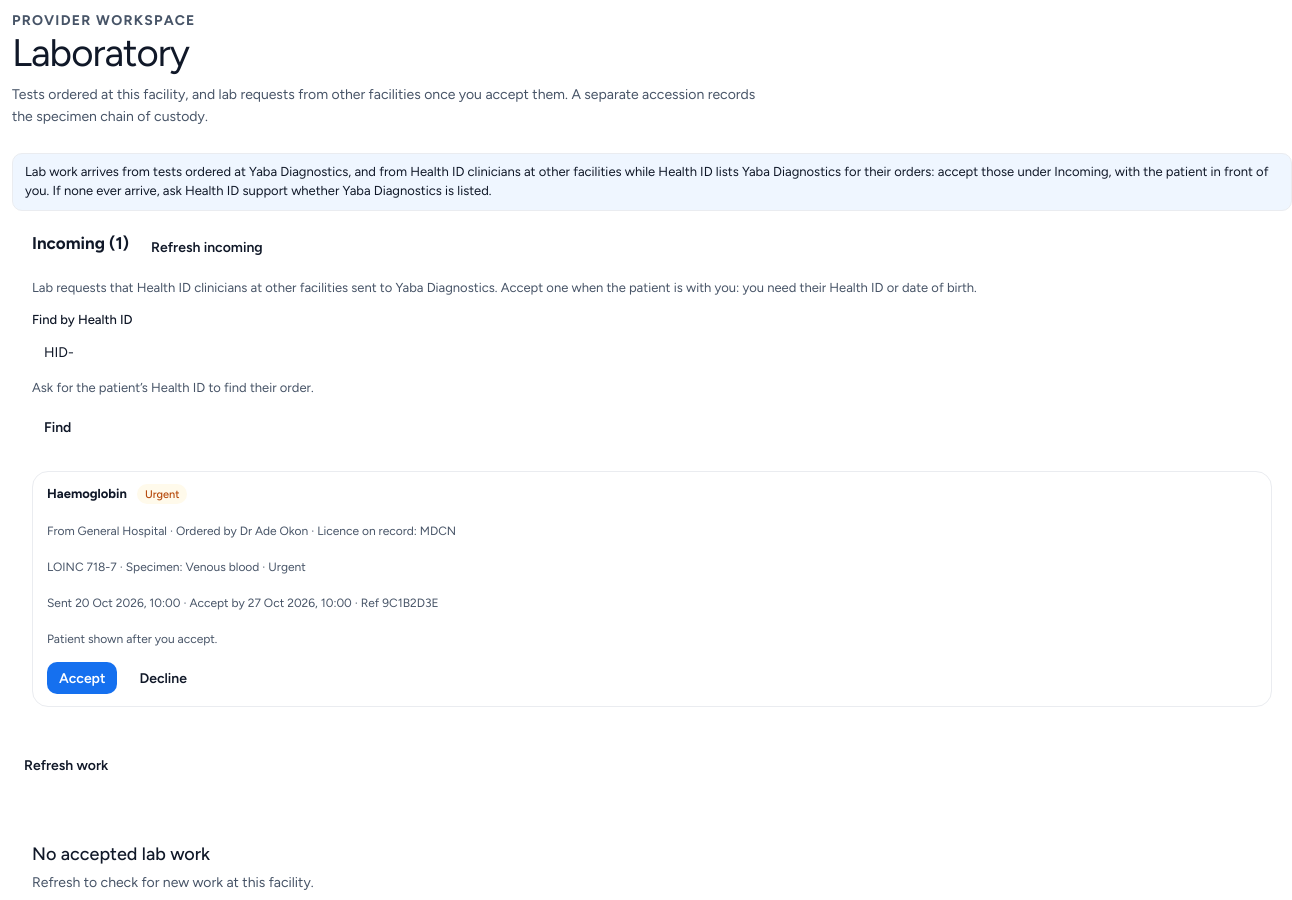
Test: Incoming at a laboratory › declines with a reason the ordering facility is told
Click the button "Decline": coordinates (163, 678) [128, 662, 199, 694]
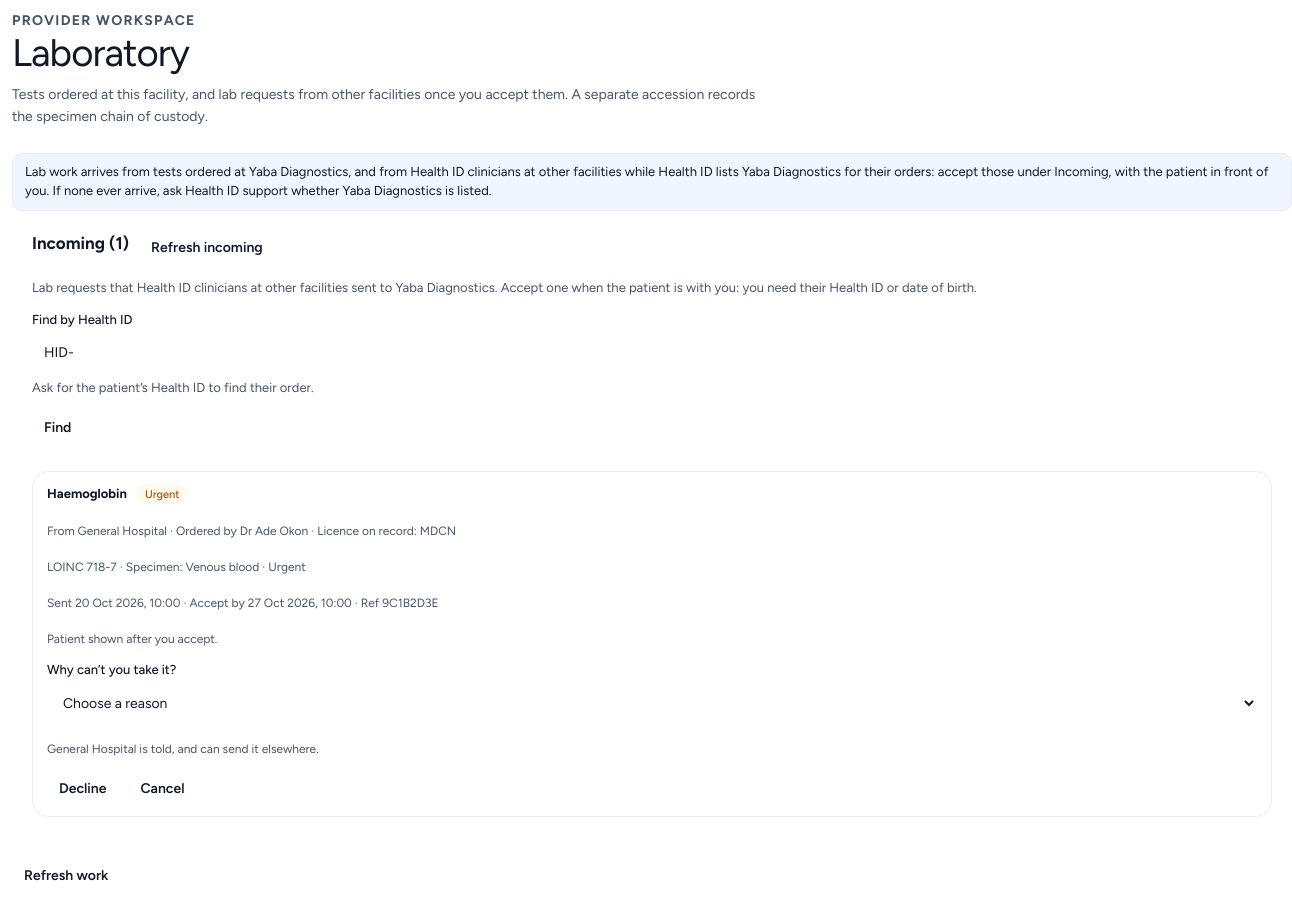
Select "This test isn’t offered" in the dropdown labelled "Why can’t you take it?": coordinates (652, 704) [47, 684, 1257, 722]
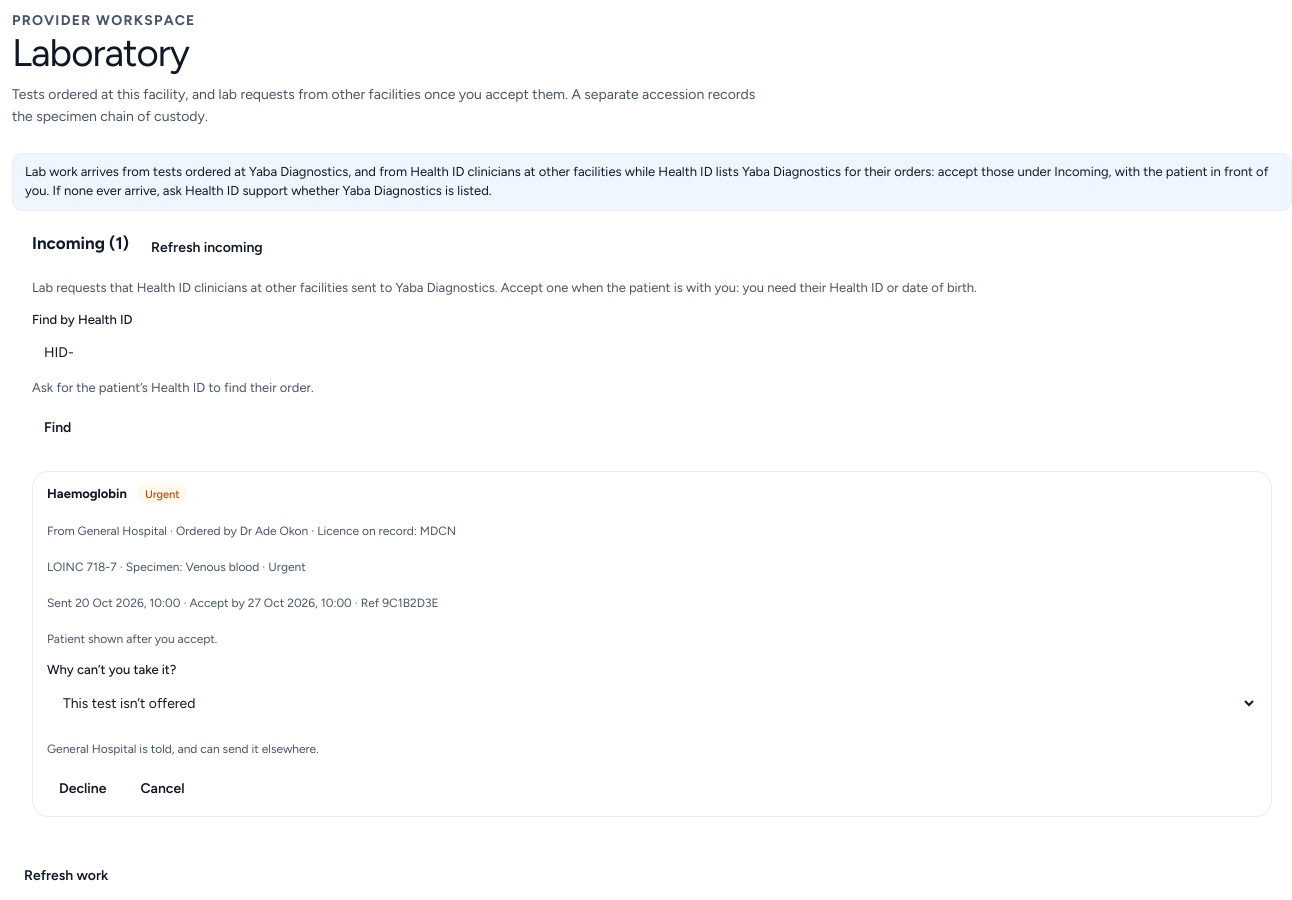
Click the button "Decline": coordinates (83, 788) [47, 772, 118, 804]
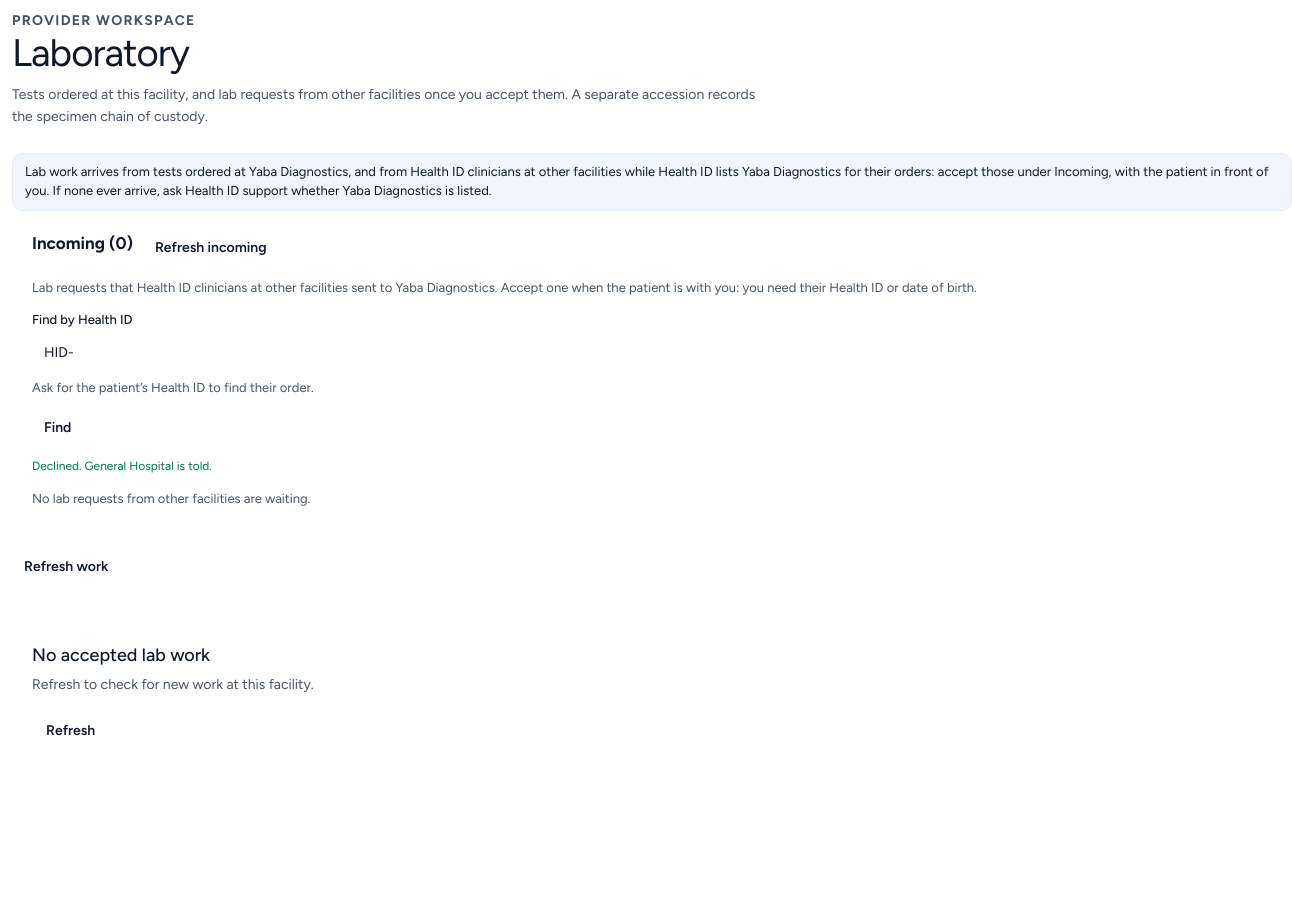
Expected: the text "Declined. General Hospital is told." is shown, [32, 459, 212, 473]
